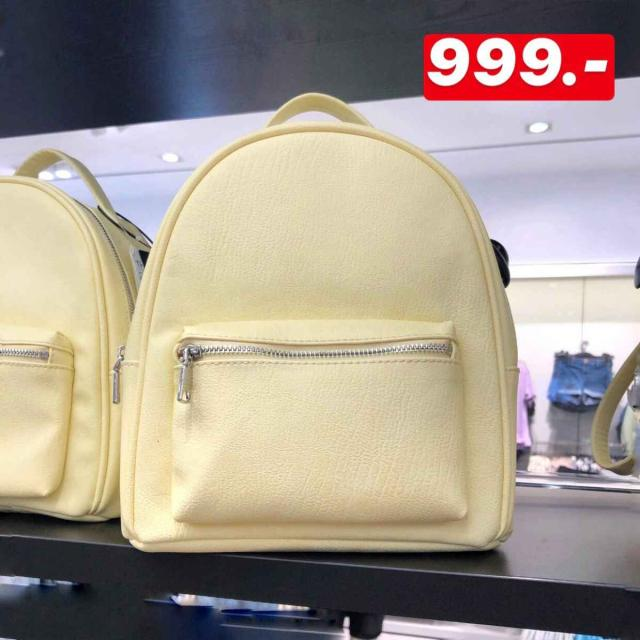Handbag: (112, 90, 526, 561)
